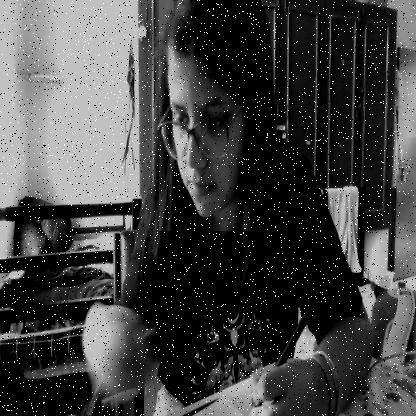Distracted: (159, 0, 263, 231)
